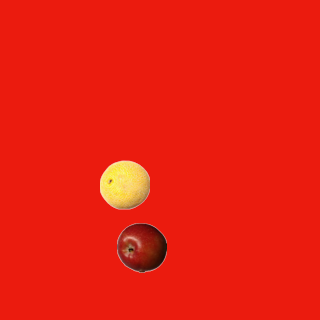Apple Braeburn: (116, 222, 166, 272)
Cantaloupe 1: (99, 159, 149, 209)
